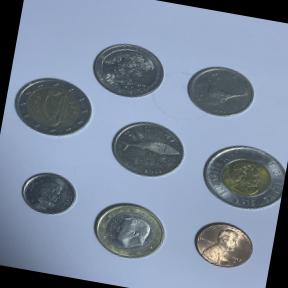coin: (190, 131, 288, 219), (83, 194, 176, 270), (102, 112, 192, 190), (8, 70, 98, 146), (83, 34, 172, 104), (184, 212, 262, 275), (14, 163, 83, 222)
